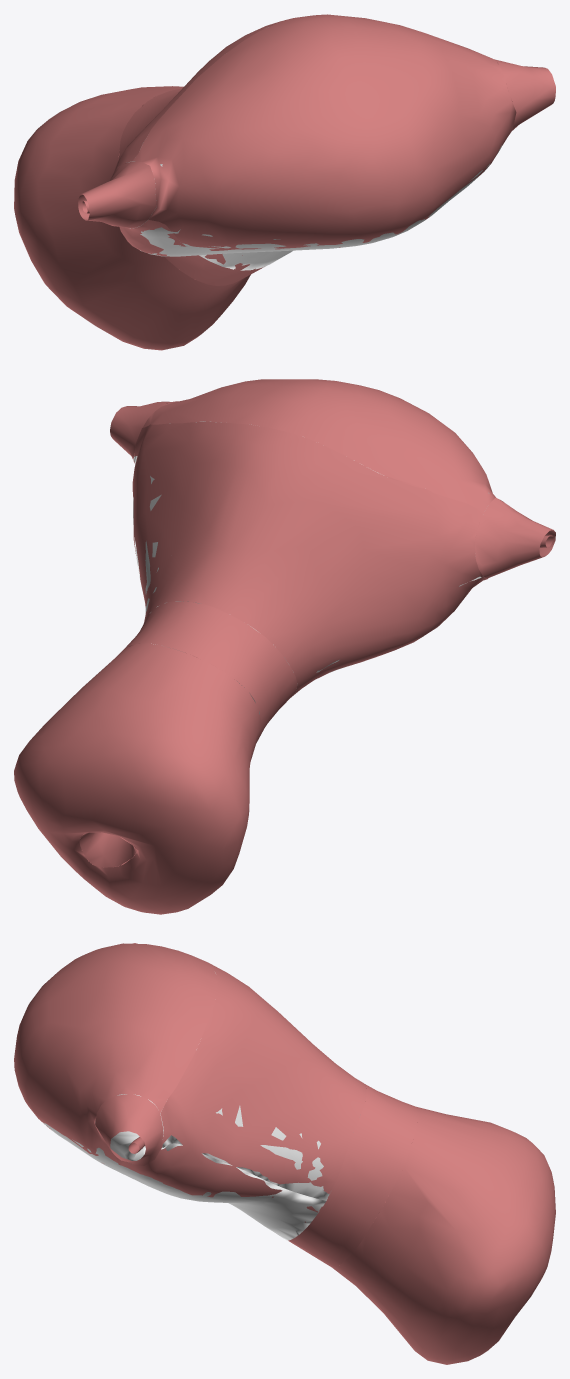
Rendered from vh_f_uterus-20.fbx.
3 renders of one model, top to bottom at view 1: azimuth 30°, elevation 25°; view 2: azimuth 150°, elevation 25°; view 3: azimuth 270°, elevation 25°, orthographic. The views are drawn at different scales.
Parts seen in each view (by area): view 1: VH_F_fundus_of_uterus, VH_F_cervix, VH_F_cornua, VH_F_posterior_wall_of_uterus, VH_F_lower_uterine_segment, VH_F_body_of_uterus; view 2: VH_F_body_of_uterus, VH_F_cervix, VH_F_fundus_of_uterus, VH_F_lower_uterine_segment, VH_F_cornua, VH_F_external_cervical_os, VH_F_anterior_wall_of_uterus; view 3: VH_F_cervix, VH_F_body_of_uterus, VH_F_fundus_of_uterus, VH_F_lower_uterine_segment, VH_F_posterior_wall_of_uterus, VH_F_cornua, VH_F_anterior_wall_of_uterus.
Boxes of the visible parts, box(x1,y1,x2,y2) form: VH_F_fundus_of_uterus: box(132, 14, 516, 250); VH_F_cervix: box(14, 86, 250, 350); VH_F_cornua: box(78, 59, 555, 228); VH_F_posterior_wall_of_uterus: box(130, 145, 501, 270); VH_F_lower_uterine_segment: box(119, 88, 263, 285); VH_F_body_of_uterus: box(113, 19, 511, 270); VH_F_body_of_uterus: box(132, 421, 488, 697); VH_F_cervix: box(14, 643, 261, 914); VH_F_fundus_of_uterus: box(142, 379, 501, 514); VH_F_lower_uterine_segment: box(125, 601, 297, 742); VH_F_cornua: box(110, 401, 555, 578); VH_F_external_cervical_os: box(79, 832, 136, 867); VH_F_anterior_wall_of_uterus: box(133, 421, 489, 672); VH_F_cervix: box(332, 1107, 555, 1364); VH_F_body_of_uterus: box(115, 962, 366, 1222); VH_F_fundus_of_uterus: box(14, 943, 217, 1163); VH_F_lower_uterine_segment: box(288, 1083, 419, 1267); VH_F_posterior_wall_of_uterus: box(43, 1122, 326, 1240); VH_F_cornua: box(95, 943, 163, 1165); VH_F_anterior_wall_of_uterus: box(117, 972, 329, 1200).
Bounding box in the file's own units: 5.25 × 4.7 × 5.87.
